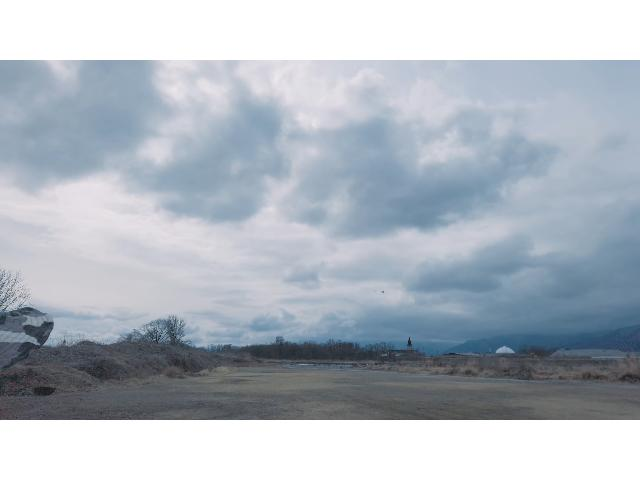Anti-Drone: (372, 288, 390, 296)
